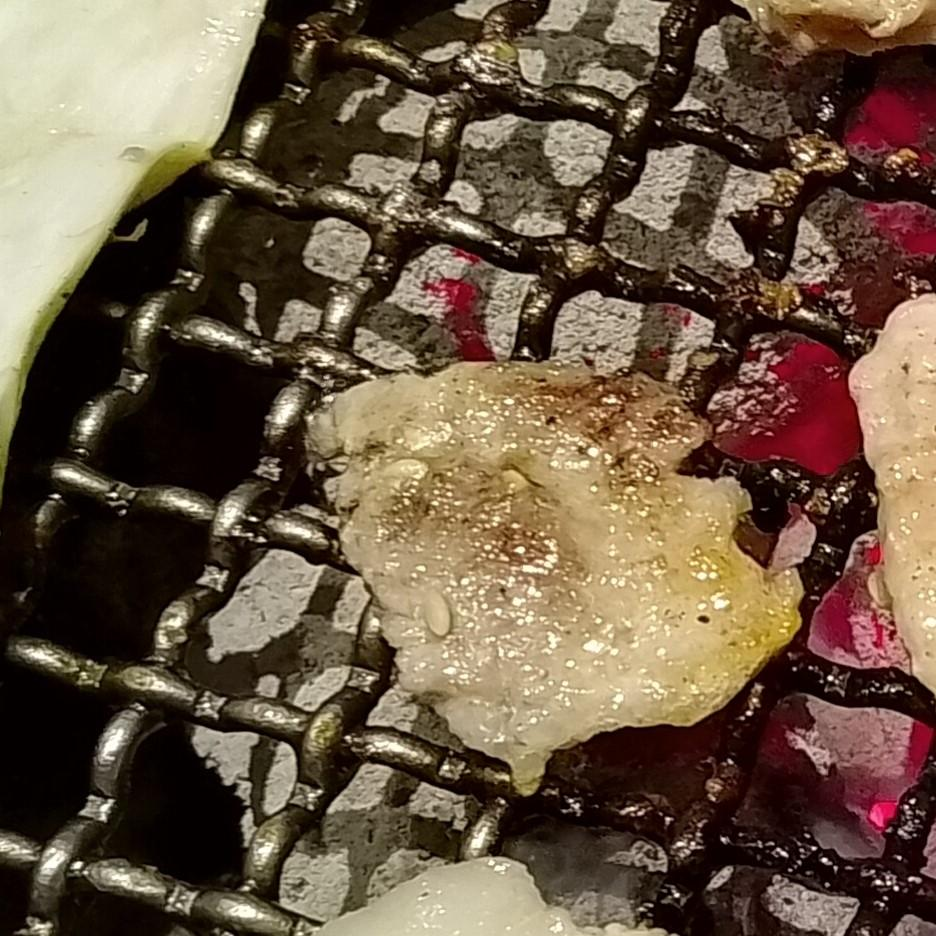Overcooked: (306, 363, 805, 796)
